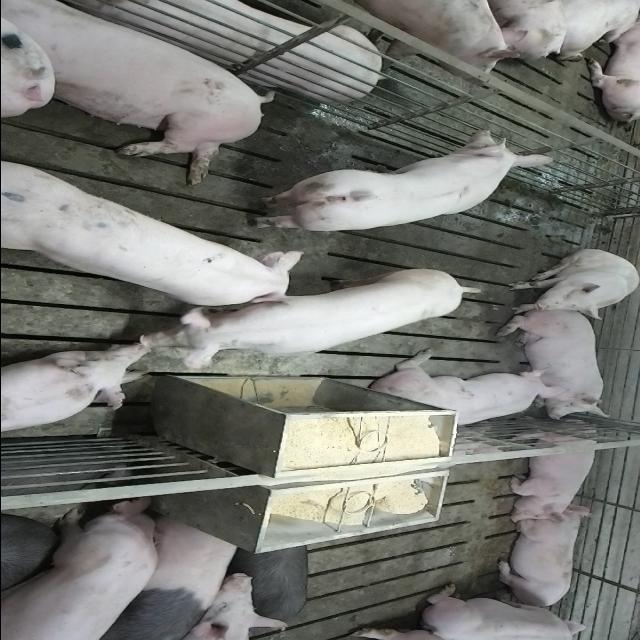Lateral_lying: (0, 4, 272, 188), (59, 0, 382, 103)
Sitting: (502, 249, 636, 317)
Standing: (0, 152, 299, 308), (152, 266, 484, 368), (238, 127, 554, 234), (0, 499, 166, 638), (276, 0, 518, 85), (76, 515, 240, 638)
Sternal_lying: (366, 356, 556, 430), (2, 346, 152, 438), (502, 312, 612, 420), (501, 425, 602, 523), (416, 584, 598, 638), (491, 509, 588, 610)
